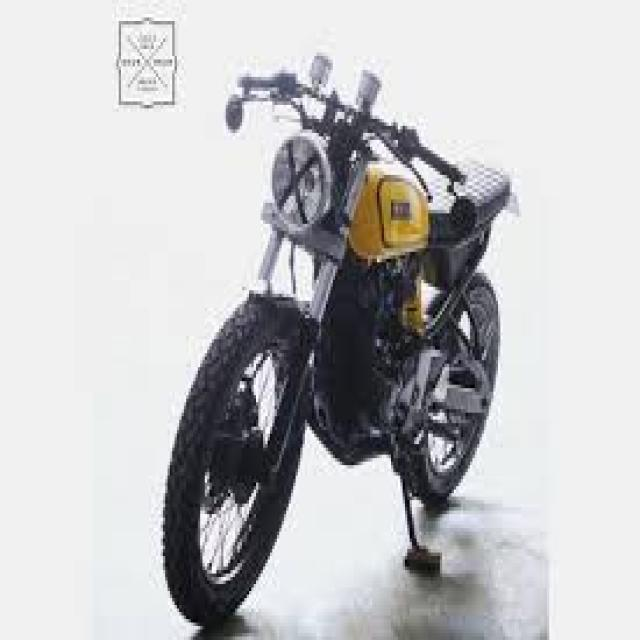bike: (159, 53, 520, 627)
